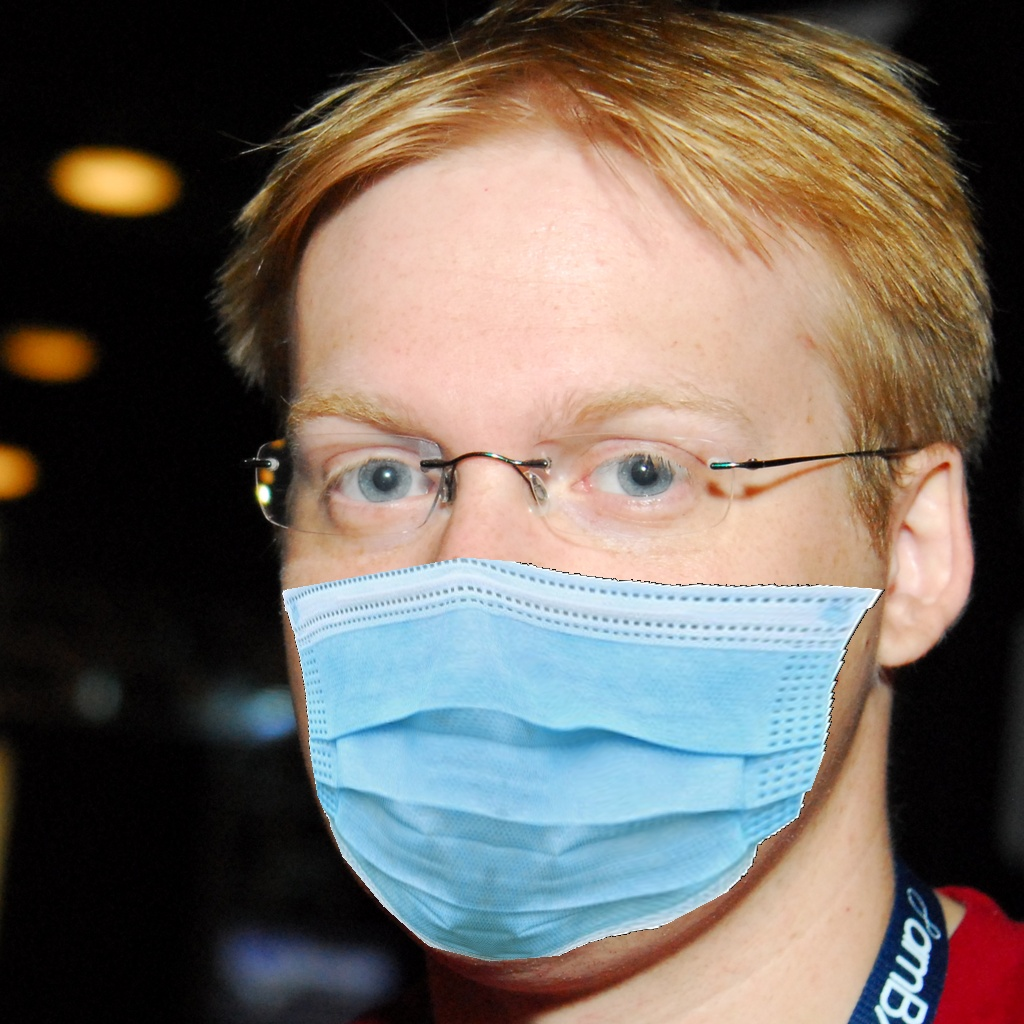Mask: (283, 346, 889, 967)
